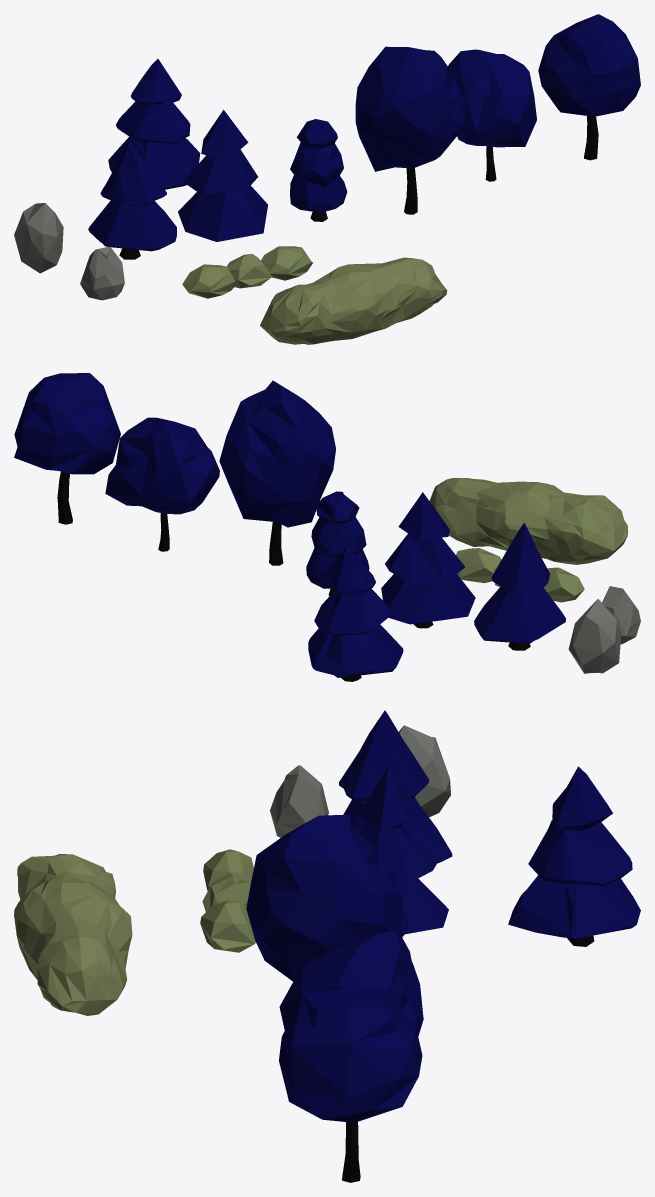
Rendered from Nature04_GRP_VertexColours.fbx.
3 views of the same model, one above another, from view 1: azimuth 30°, elevation 25°; view 2: azimuth 150°, elevation 25°; view 3: azimuth 270°, elevation 25° (orthographic). The views are drawn at different scales.
Visible parts, largest first — view 1: Tree_02_MSH, Large_Bush_MSH, Tree_01_MSH, Pine02_MSH, Tree_03_MSH, Pine03_MSH, Pine01_MSH, Three_Blob_Tree_MSH, Rock_02_MSH, Rock_01_MSH, Small_Bush_03_MSH, Small_Bush_01_MSH (+1 smaller); view 2: Tree_02_MSH, Large_Bush_MSH, Tree_01_MSH, Tree_03_MSH, Pine03_MSH, Pine02_MSH, Pine01_MSH, Three_Blob_Tree_MSH, Rock_02_MSH, Rock_01_MSH, Small_Bush_01_MSH, Small_Bush_03_MSH; view 3: Tree_02_MSH, Tree_01_MSH, Large_Bush_MSH, Pine03_MSH, Tree_03_MSH, Pine02_MSH, Pine01_MSH, Rock_01_MSH, Rock_02_MSH, Small_Bush_01_MSH, Small_Bush_03_MSH, Small_Bush_02_MSH.
Part boxes in pixels (bbox=[...]): Tree_02_MSH: bbox=[355, 46, 465, 214]; Large_Bush_MSH: bbox=[260, 257, 447, 344]; Tree_01_MSH: bbox=[538, 14, 640, 160]; Pine02_MSH: bbox=[178, 109, 267, 241]; Tree_03_MSH: bbox=[448, 49, 536, 181]; Pine03_MSH: bbox=[108, 59, 200, 189]; Pine01_MSH: bbox=[88, 141, 176, 259]; Three_Blob_Tree_MSH: bbox=[290, 119, 347, 221]; Rock_02_MSH: bbox=[14, 203, 63, 273]; Rock_01_MSH: bbox=[80, 246, 124, 300]; Small_Bush_03_MSH: bbox=[182, 264, 236, 298]; Small_Bush_01_MSH: bbox=[261, 246, 312, 280]; Tree_02_MSH: bbox=[219, 380, 335, 565]; Large_Bush_MSH: bbox=[429, 478, 627, 564]; Tree_01_MSH: bbox=[14, 373, 120, 524]; Tree_03_MSH: bbox=[105, 417, 219, 551]; Pine03_MSH: bbox=[308, 543, 403, 681]; Pine02_MSH: bbox=[381, 492, 475, 628]; Pine01_MSH: bbox=[474, 522, 565, 650]; Three_Blob_Tree_MSH: bbox=[306, 491, 369, 595]; Rock_02_MSH: bbox=[568, 599, 621, 673]; Rock_01_MSH: bbox=[602, 586, 640, 644]; Small_Bush_01_MSH: bbox=[456, 548, 501, 583]; Small_Bush_03_MSH: bbox=[544, 567, 584, 602]; Tree_02_MSH: bbox=[246, 814, 403, 981]; Tree_01_MSH: bbox=[279, 987, 422, 1182]; Large_Bush_MSH: bbox=[14, 854, 132, 1015]; Pine03_MSH: bbox=[508, 766, 640, 946]; Tree_03_MSH: bbox=[279, 930, 423, 1036]; Pine02_MSH: bbox=[357, 765, 448, 934]; Pine01_MSH: bbox=[339, 710, 452, 863]; Rock_01_MSH: bbox=[270, 765, 328, 837]; Rock_02_MSH: bbox=[399, 725, 450, 817]; Small_Bush_01_MSH: bbox=[200, 900, 255, 952]; Small_Bush_03_MSH: bbox=[203, 849, 253, 890]; Small_Bush_02_MSH: bbox=[202, 876, 250, 911].
Bounding box in the file's own units: 3759 × 1101 × 2459.
